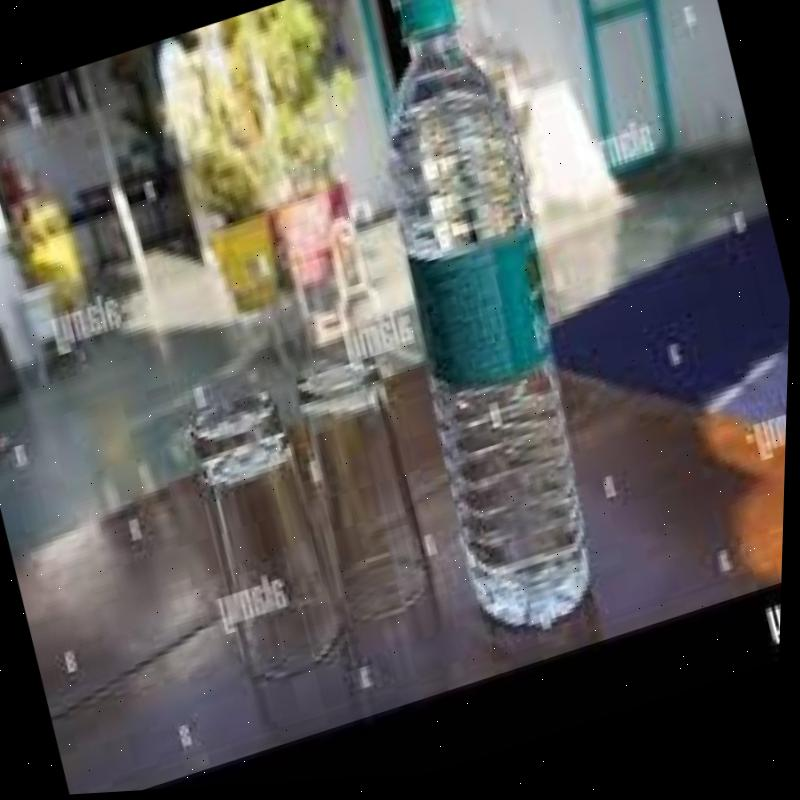botella: (315, 0, 646, 659)
